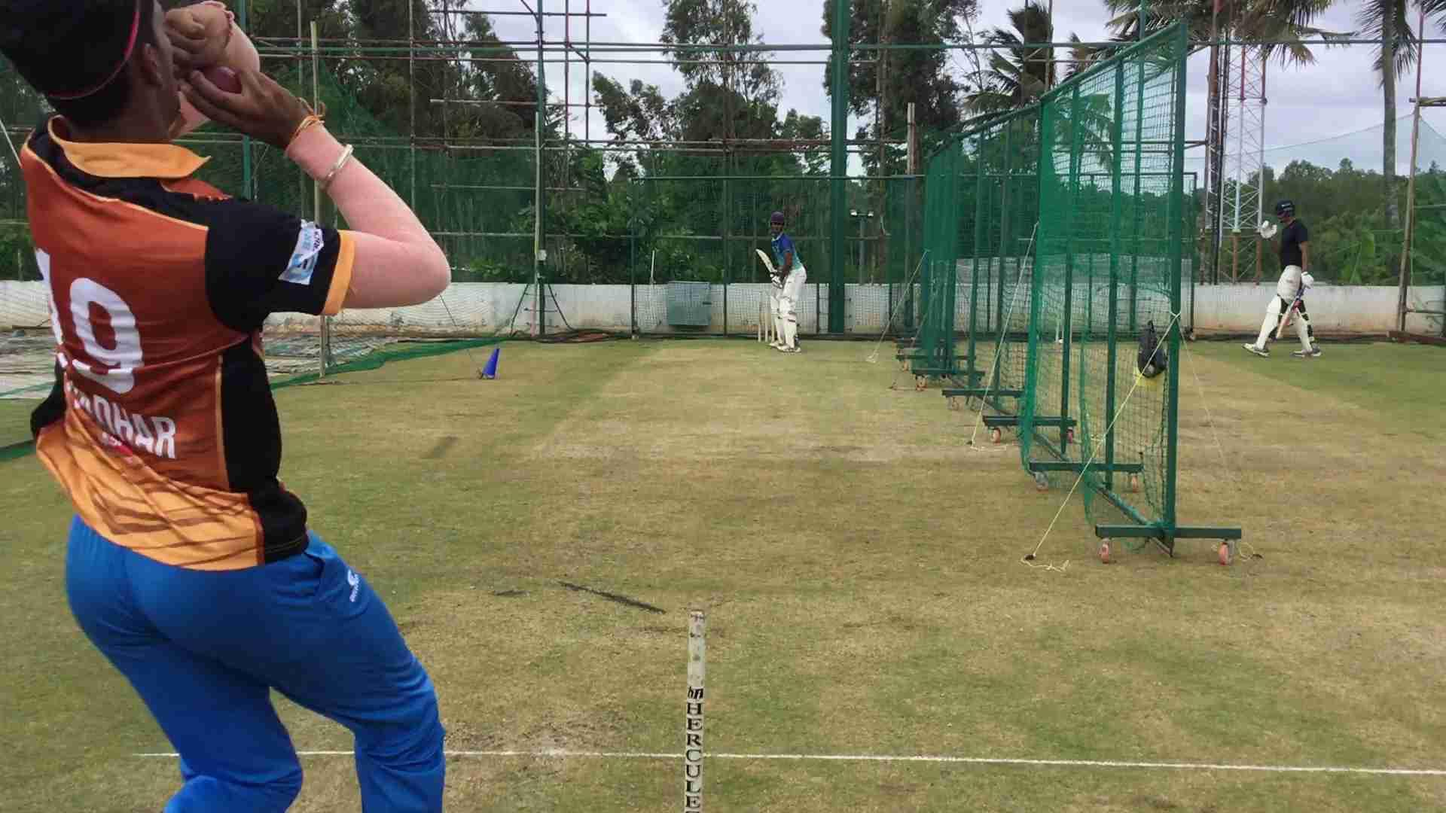batsman: (757, 202, 813, 355)
